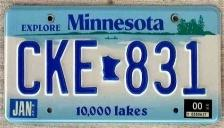1: (182, 39, 208, 96)
3: (152, 39, 179, 96)
8: (124, 39, 149, 95)
C: (16, 38, 42, 96)
E: (72, 38, 98, 99)
K: (43, 38, 70, 97)
